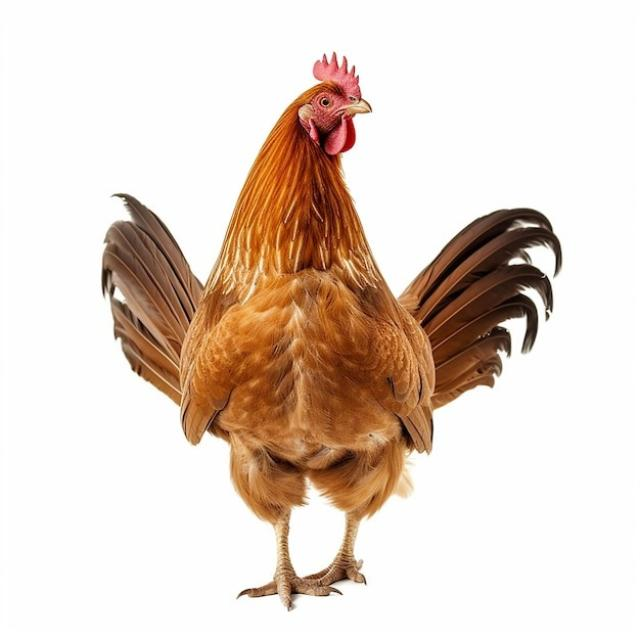Chicken: (101, 50, 563, 608)
